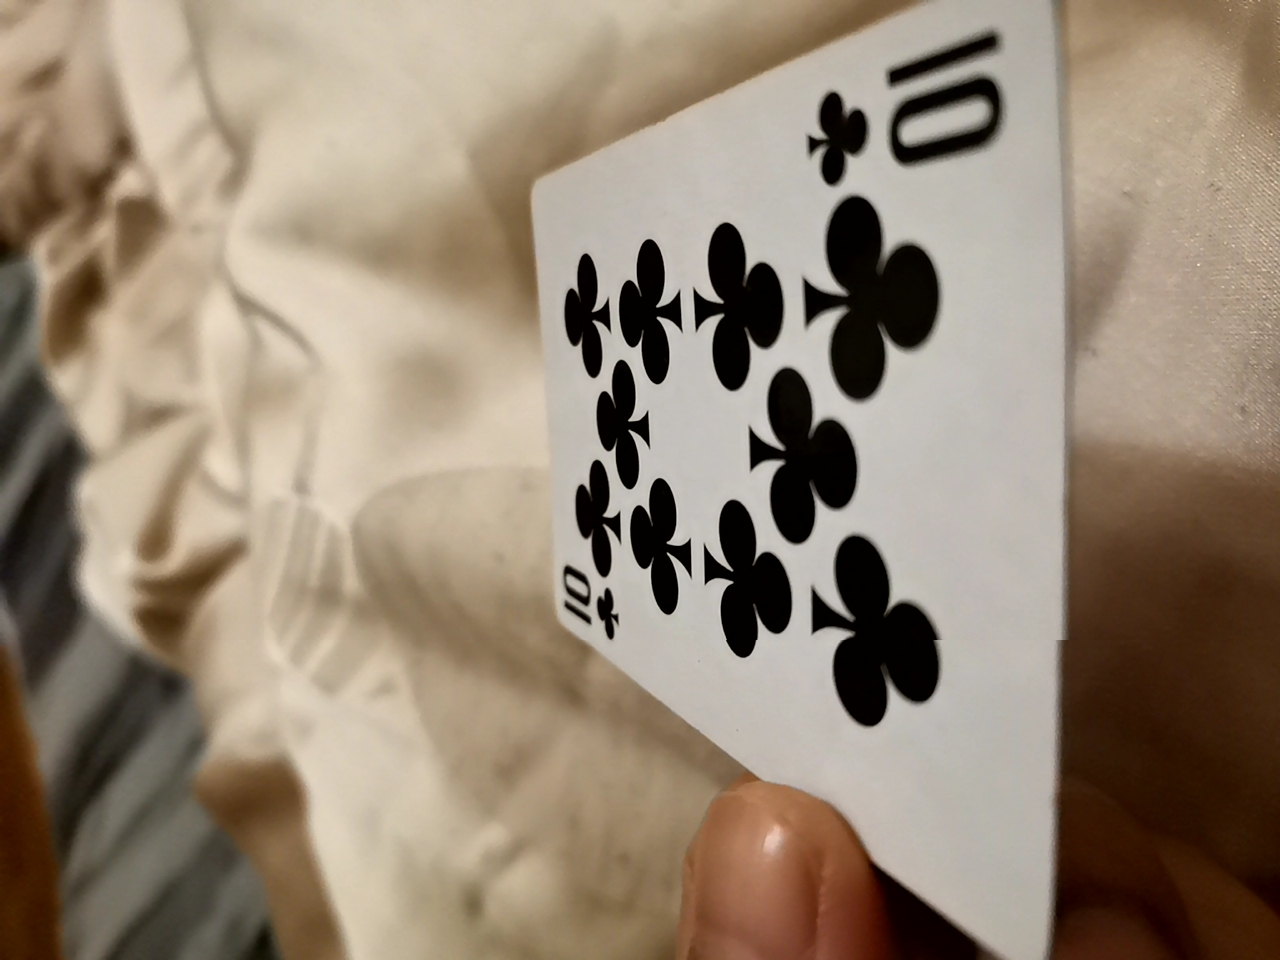mh 10: (508, 9, 1057, 918)
